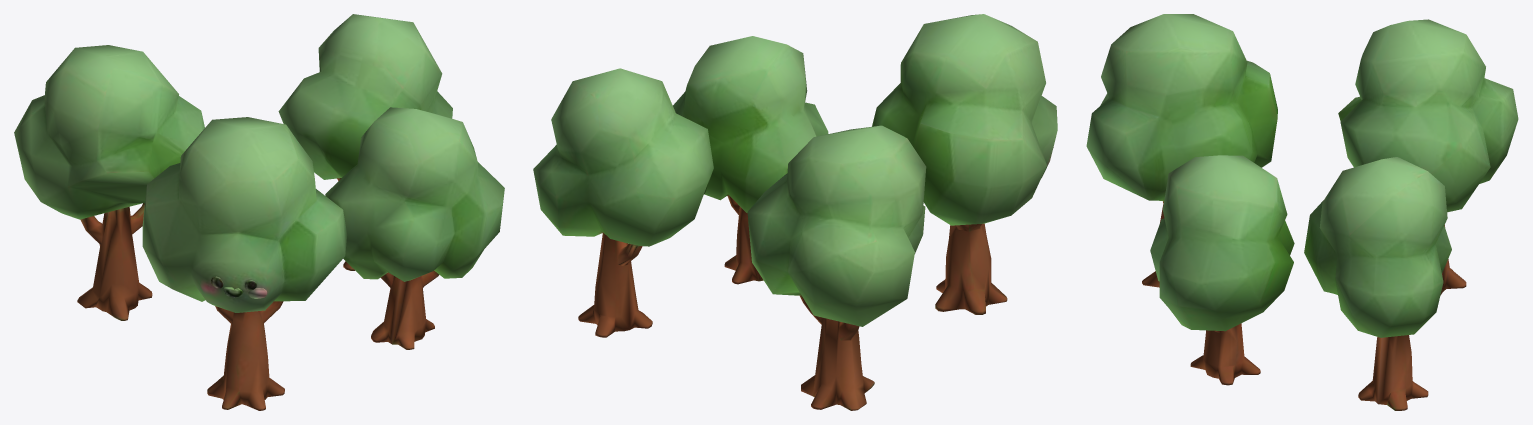
The model's file is tree.glb.
3 views of the same model, side by side, from view 1: azimuth 30°, elevation 25°; view 2: azimuth 150°, elevation 25°; view 3: azimuth 270°, elevation 25° (orthographic). The views are drawn at different scales.
Visible parts, largest first — view 1: material; view 2: material; view 3: material.
Part boxes in pixels (x1,y1,x2,y2): material: (14, 14, 504, 410); material: (533, 14, 1057, 410); material: (1086, 14, 1518, 410).
Bounding box in the file's own units: 1.9 × 1.28 × 1.88.
1 material, 1 textured.
